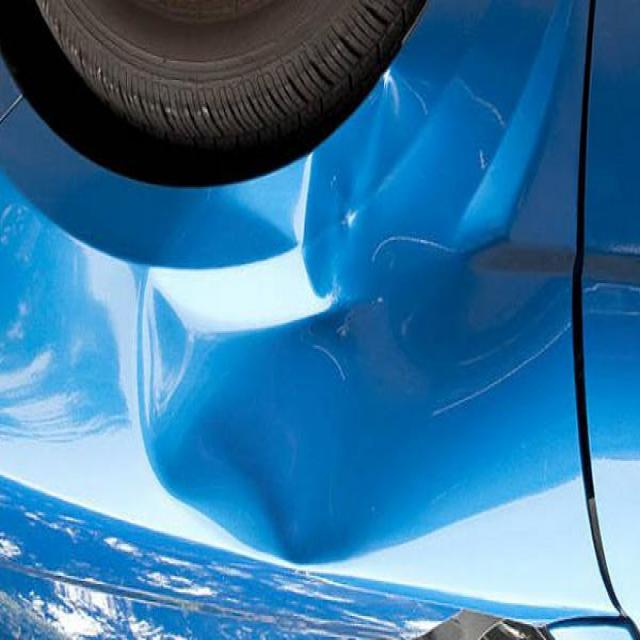dent: (87, 153, 639, 640)
